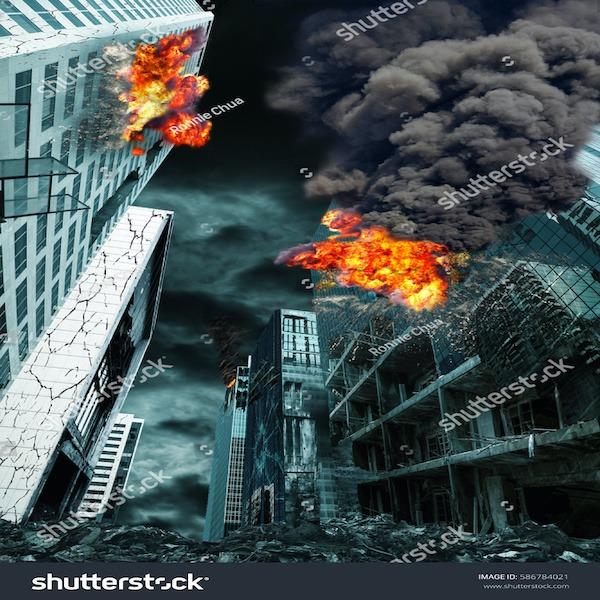fire: (293, 149, 440, 301), (133, 40, 217, 152)
